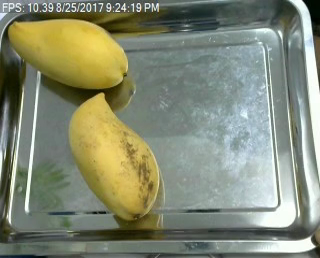Mango: (68, 91, 161, 228), (7, 17, 131, 92)
